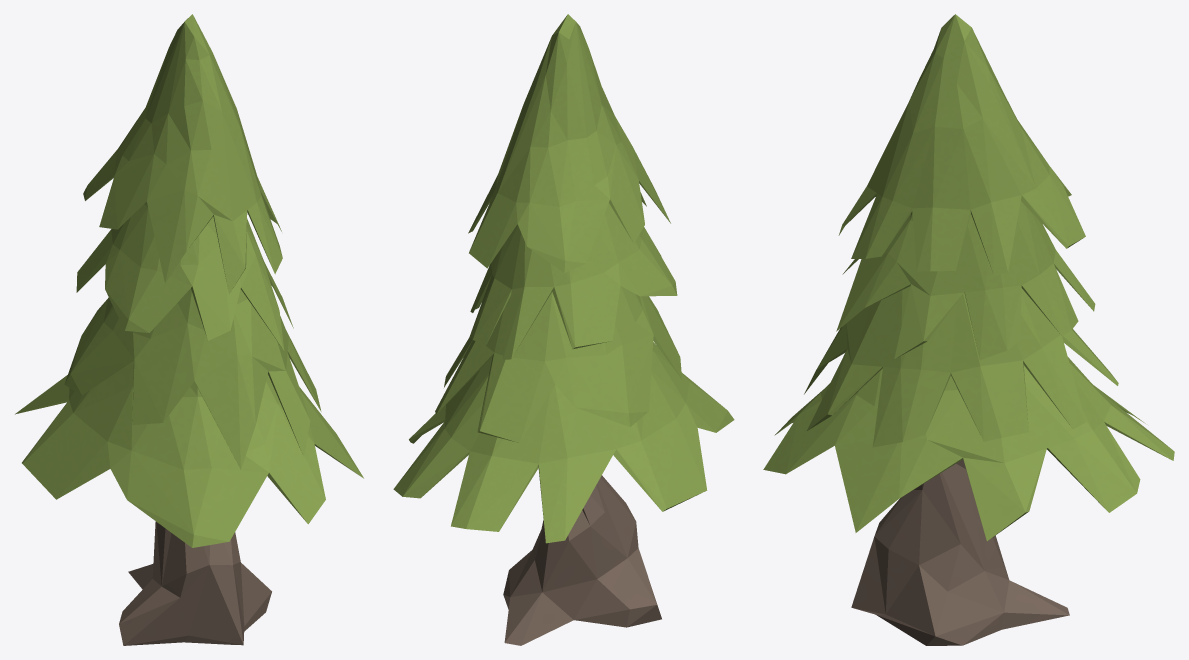
The model's file is Tree_Light.fbx.
The picture shows the model from 3 angles, left to right: view 1: azimuth 30°, elevation 25°; view 2: azimuth 150°, elevation 25°; view 3: azimuth 270°, elevation 25°; orthographic projection.
Visible parts, largest first — view 1: Tree_Light; view 2: Tree_Light; view 3: Tree_Light.
Boxes of the visible parts, x1,y1,x2,y2 form: Tree_Light: (15,14,363,645); Tree_Light: (393,14,734,645); Tree_Light: (763,14,1174,645).
Bounding box in the file's own units: 1.78 × 3.66 × 2.26.
